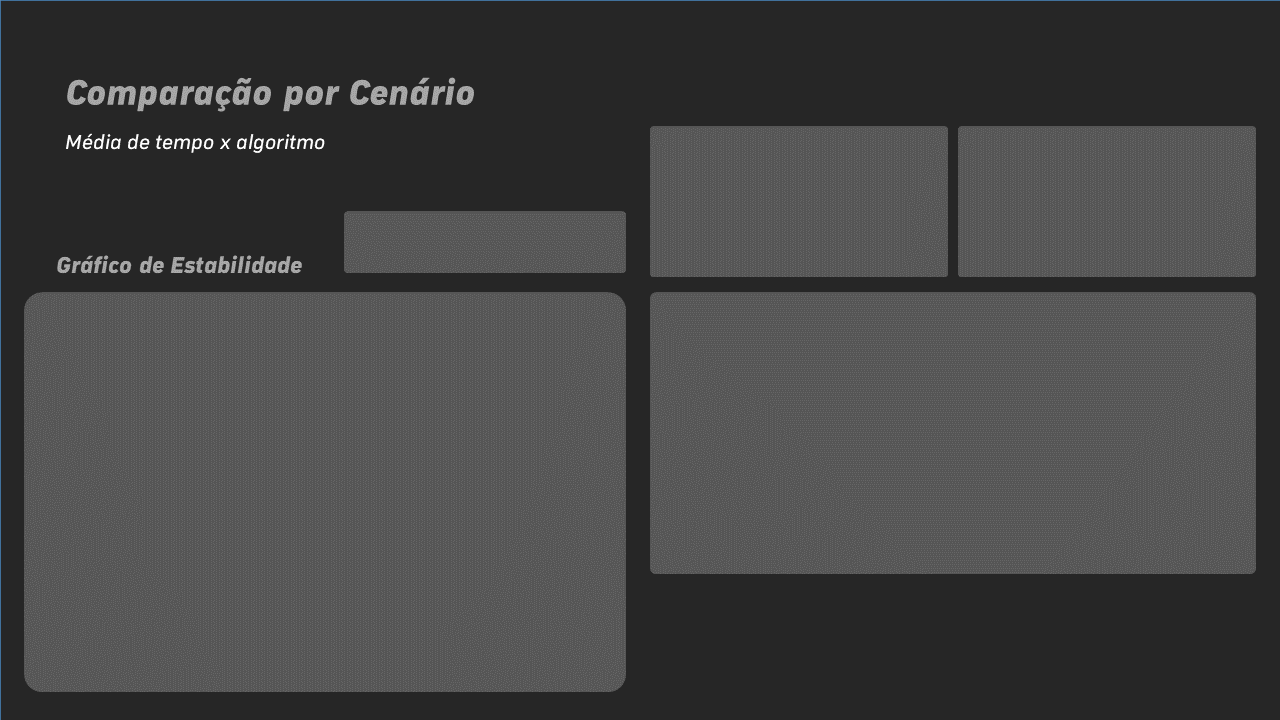

The page's visual inventory and layout, read from the dashboard file:
{"tool":"powerbi","page":{"name":"Página 3","canvas":[1280,720],"ordinal":2},"visuals":[{"type":"lineChart","fields":{"Category":["Dados.Rodada"],"Y":["Avg(Dados.Tempo (s))"],"Series":["Dados.Algoritmo"]},"box":[27.7,308.8,586.3,384.8],"z":0},{"type":"slicer","fields":{"Values":["Dados.Cenário"]},"box":[324,209.3,319.3,64],"z":1000},{"type":"card","fields":{"Values":["Dados.AlgoritmoMaisEstavel"]},"box":[665.9,125.5,266.6,149.6],"z":2000},{"type":"card","fields":{"Values":["Dados.AlgoritmoMenosEstavel"]},"box":[959.1,124.3,288.3,149.6],"z":3000},{"type":"tableEx","fields":{"Values":["Dados.Algoritmo","Avg(Dados.Tempo (s))","Dados.DesvioPadrao","Dados.TempoMax","Dados.TempoMin"]},"box":[665.9,294.4,581.5,278.7],"z":3001}]}

Visuals, with their boxes in screenshot pixels (x1, y1, x2, y2), scaled from the page's 1280x720 canvas onto the 1280x720 screenshot:
lineChart - Dados.Rodada x Avg(Dados.Tempo (s)): (28, 309, 614, 694)
slicer - Dados.Cenário: (324, 209, 643, 273)
card - Dados.AlgoritmoMaisEstavel: (666, 126, 932, 275)
card - Dados.AlgoritmoMenosEstavel: (959, 124, 1247, 274)
tableEx - Dados.Algoritmo x Avg(Dados.Tempo (s)): (666, 294, 1247, 573)
